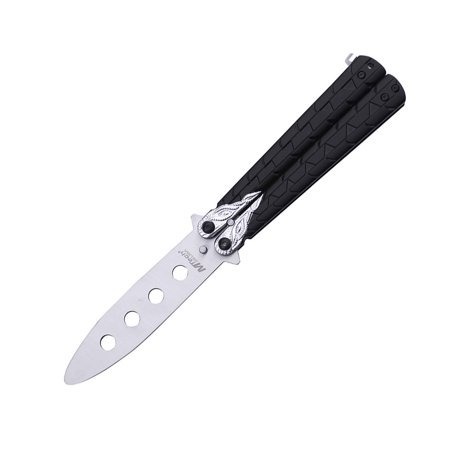knife: (63, 47, 408, 390)
